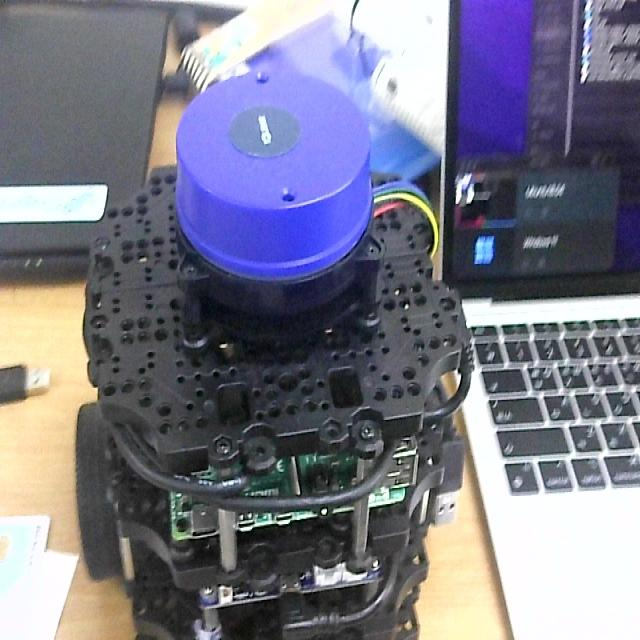turtle: (74, 67, 474, 640)
